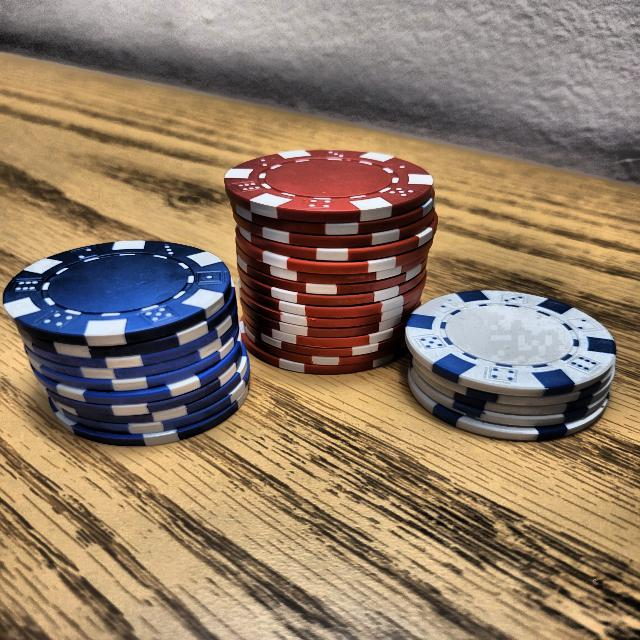Chip: (13, 208, 265, 469), (210, 140, 444, 390), (388, 262, 616, 464)
